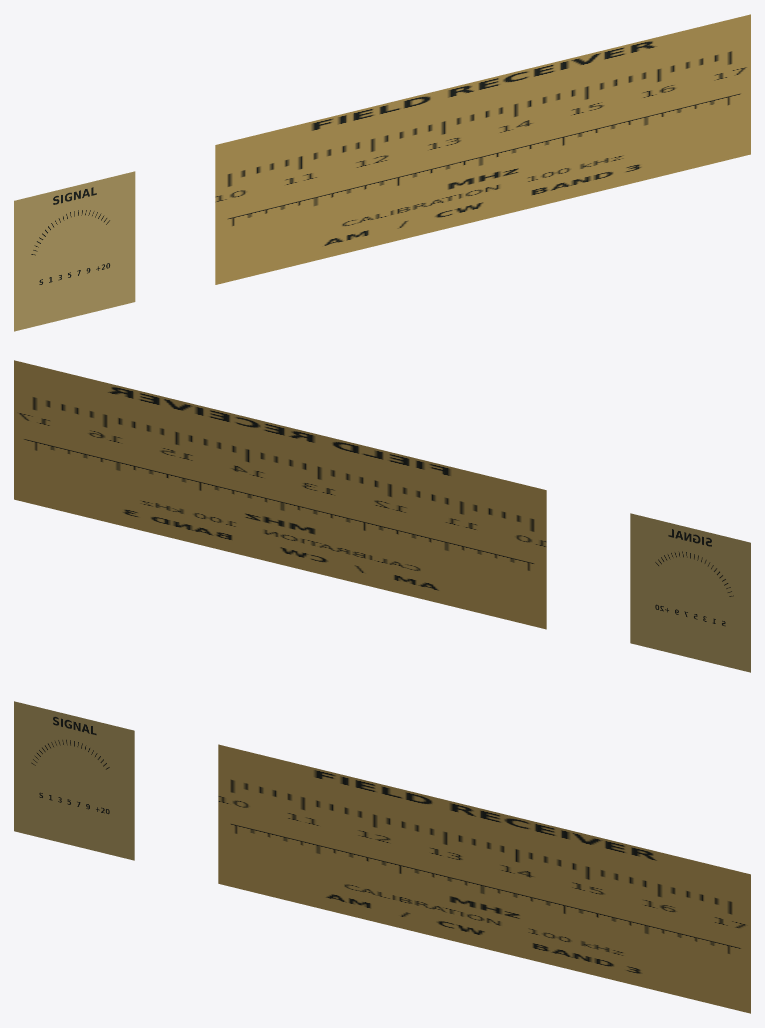
The model's file is SM_FieldKit_ReceiverDial.glb.
3 renders of one model, top to bottom at view 1: azimuth 30°, elevation 25°; view 2: azimuth 150°, elevation 25°; view 3: azimuth 330°, elevation 25°, orthographic.
Visible parts, largest first — view 1: SM_FieldKit_ReceiverDial; view 2: SM_FieldKit_ReceiverDial; view 3: SM_FieldKit_ReceiverDial.
Boxes of the visible parts, <box> form: SM_FieldKit_ReceiverDial: <box>14,14,750,331</box>; SM_FieldKit_ReceiverDial: <box>14,360,750,672</box>; SM_FieldKit_ReceiverDial: <box>14,701,750,1013</box>.
Bounding box in the file's own units: 0.414 × 0.075 × 0.002.
1 material, 1 textured.
